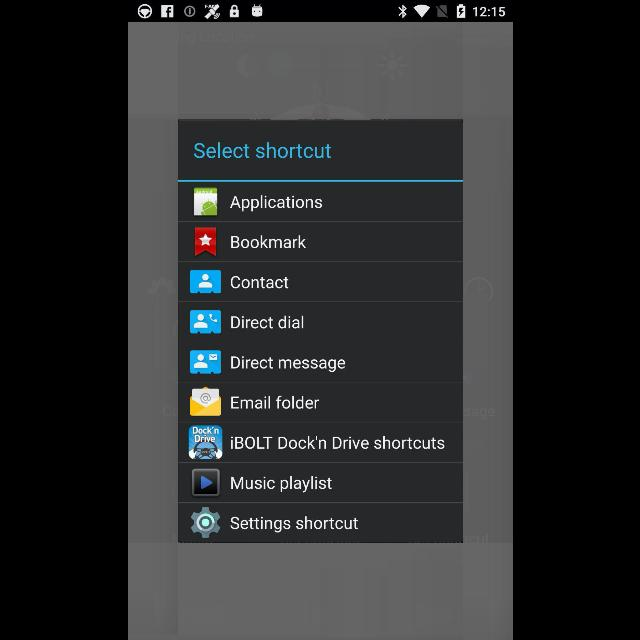icon: (190, 508, 220, 538), (191, 468, 219, 498), (190, 270, 220, 294), (190, 350, 220, 374), (190, 311, 220, 334), (194, 227, 216, 257)
image: (188, 425, 222, 459), (190, 386, 220, 416), (193, 188, 217, 216)
panel: (178, 120, 462, 542)
text: (230, 436, 444, 449), (194, 143, 330, 159), (230, 517, 356, 533), (230, 356, 344, 372), (230, 476, 332, 492), (228, 195, 322, 212), (230, 396, 320, 408), (230, 315, 302, 329), (230, 236, 306, 248), (230, 276, 288, 288)
uppertaskbar: (128, 1, 512, 23)
